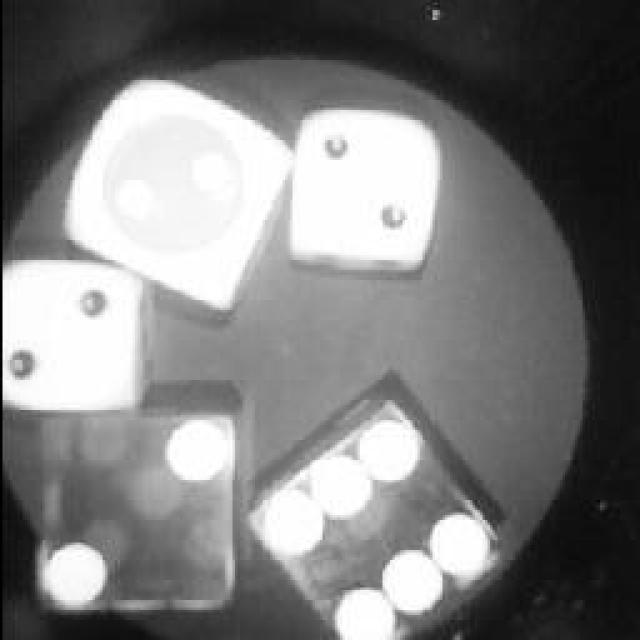dice_2: (62, 68, 290, 318), (28, 388, 248, 622), (285, 102, 445, 278), (0, 252, 148, 420)
dice_6: (235, 385, 507, 640)
